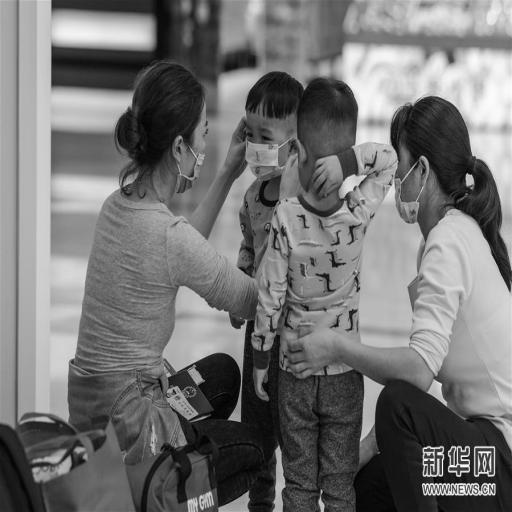mask: (382, 84, 472, 234), (117, 59, 211, 199), (235, 67, 303, 186)
